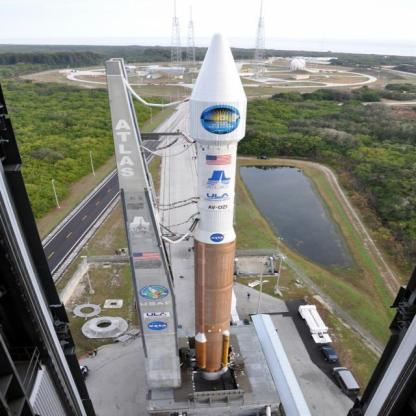MIL_TBM: (186, 35, 246, 378)
